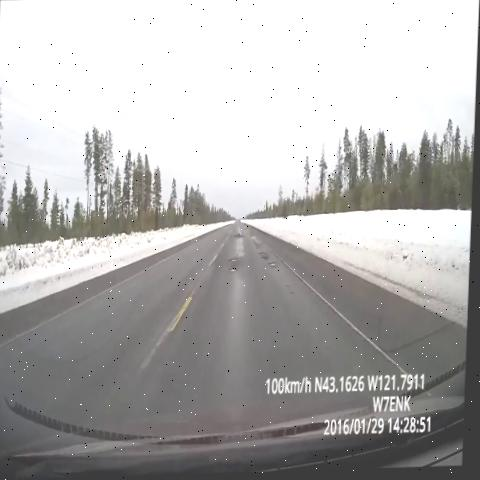pothole: (259, 244, 283, 282), (230, 248, 246, 284), (233, 223, 249, 253), (252, 231, 264, 255)
